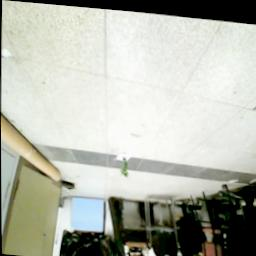herb: (120, 155, 130, 177)
